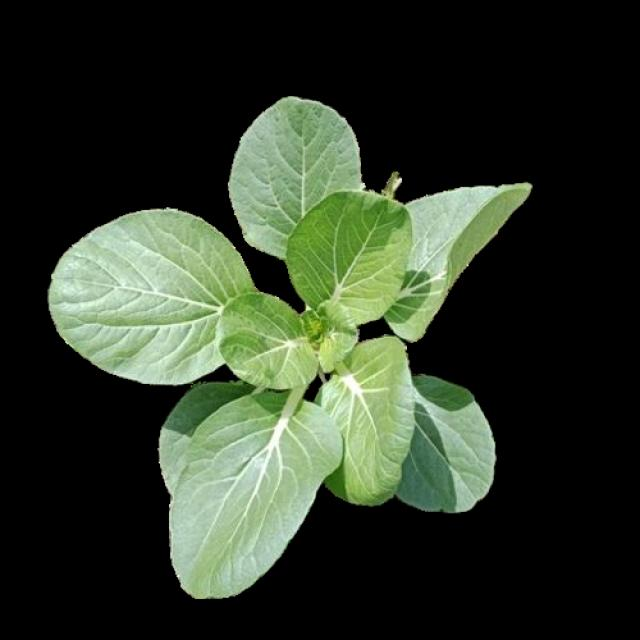not-mature: (47, 101, 534, 589)
unhealthy: (46, 113, 531, 586)
